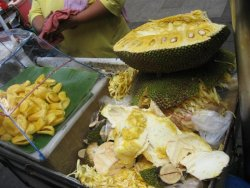jackfruit: (110, 6, 228, 76), (0, 73, 71, 146), (104, 60, 143, 101)
